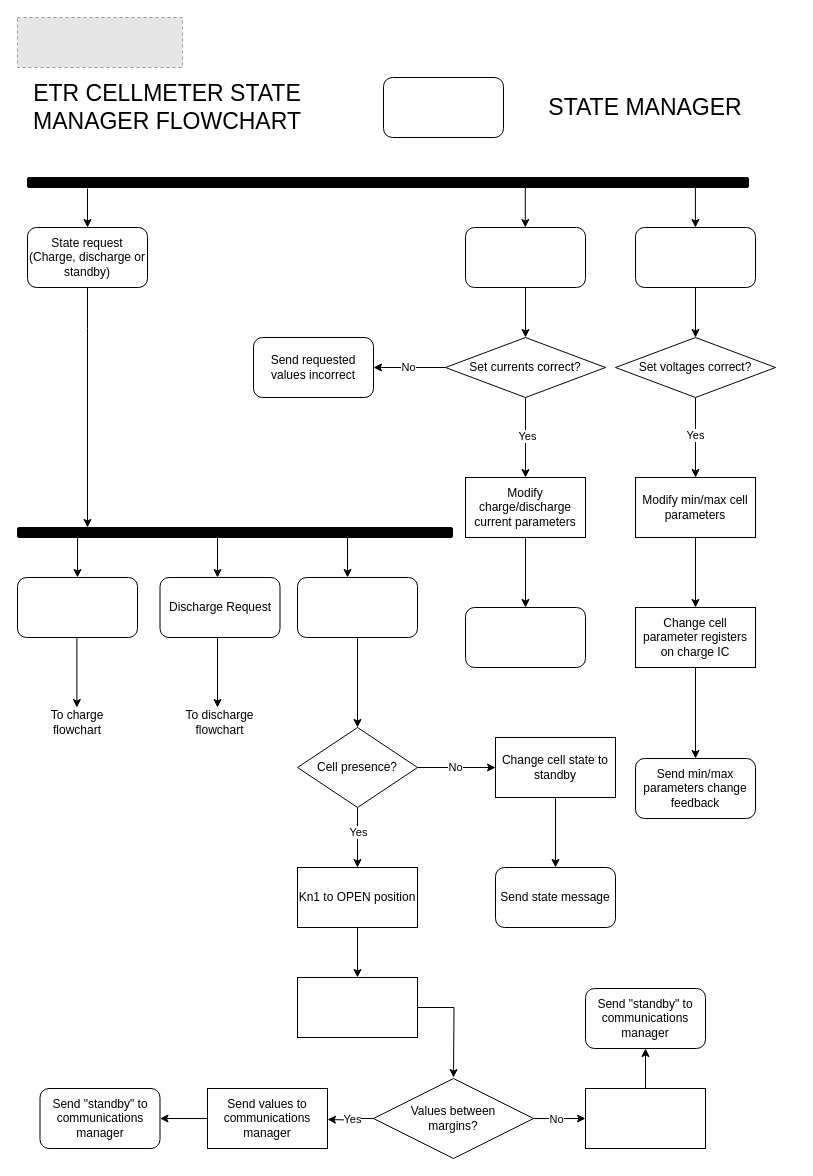
Image size: 813x1176. Some labels were removed from this diagram. Grey dashed boxes stand in for pictures. Here are the shapes that lost their labels. From the top down, the centre of each, then its label:
(443,107): Call from communications manager
(525,257): Charge/Discharge current
(695,257): Min/Max cell voltage/temperature
(77,607): Charge Request
(357,607): Standby request
(525,637): Send charge/discharge parameters change feedback
(357,1007): Read voltage, current and temperature
(645,1118): Send values error code to communications manager
